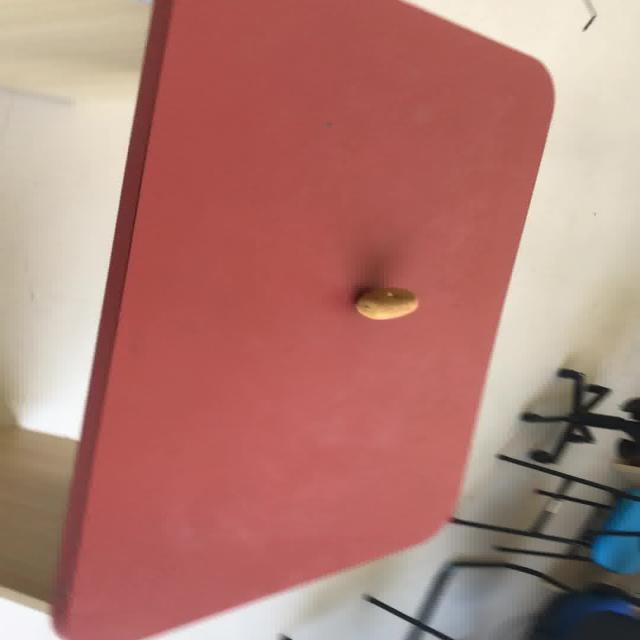kiwi: (352, 287, 418, 320)
